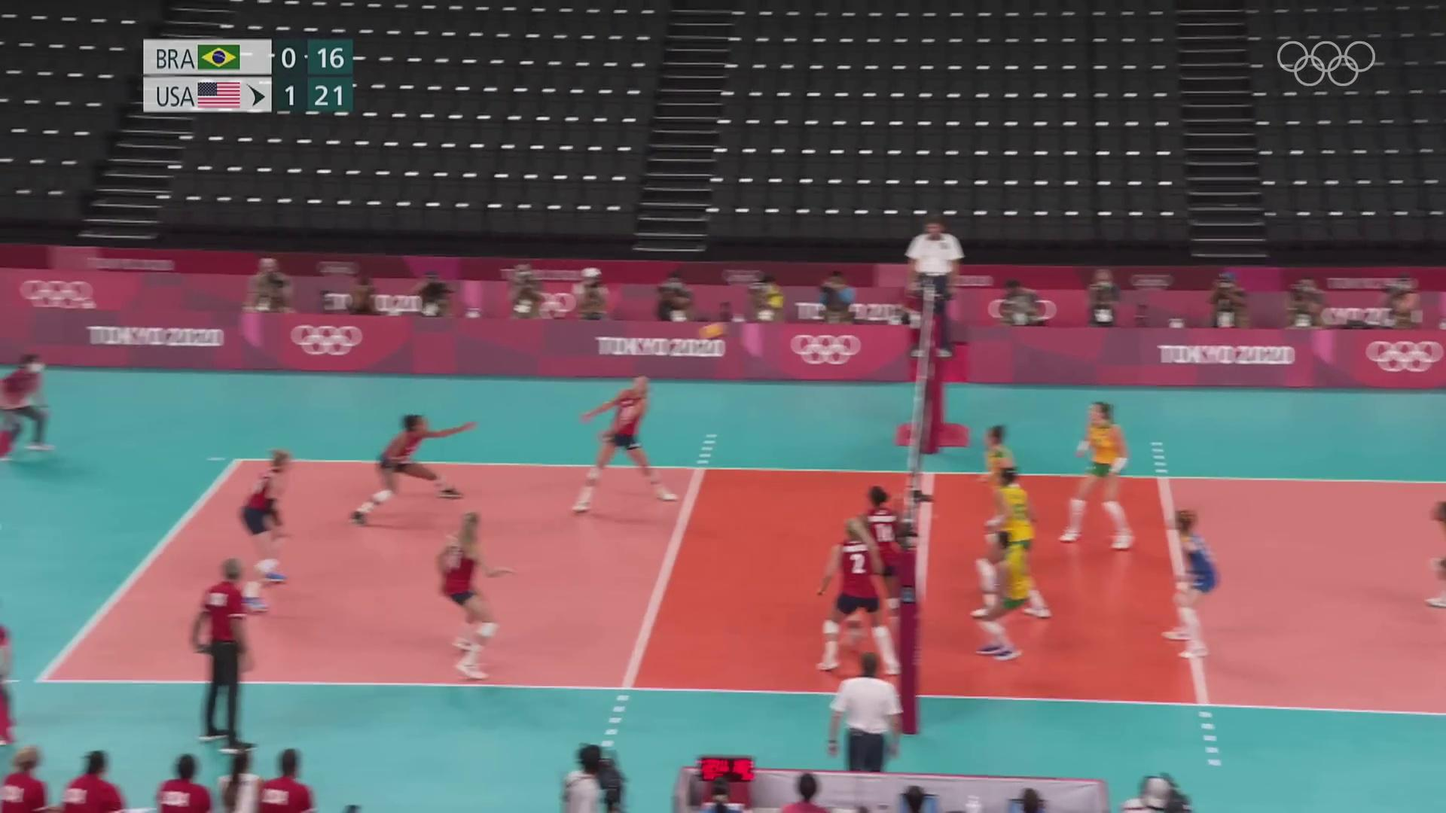player: (571, 374, 680, 514), (349, 416, 473, 526), (813, 522, 896, 674), (438, 512, 512, 680), (972, 469, 1050, 622), (1066, 402, 1140, 552), (230, 450, 299, 594), (844, 486, 905, 646), (1161, 508, 1222, 663), (972, 422, 1032, 558), (974, 534, 1035, 660), (1426, 499, 1446, 613)
refree: (824, 656, 908, 771), (904, 221, 970, 357), (0, 355, 54, 454)
